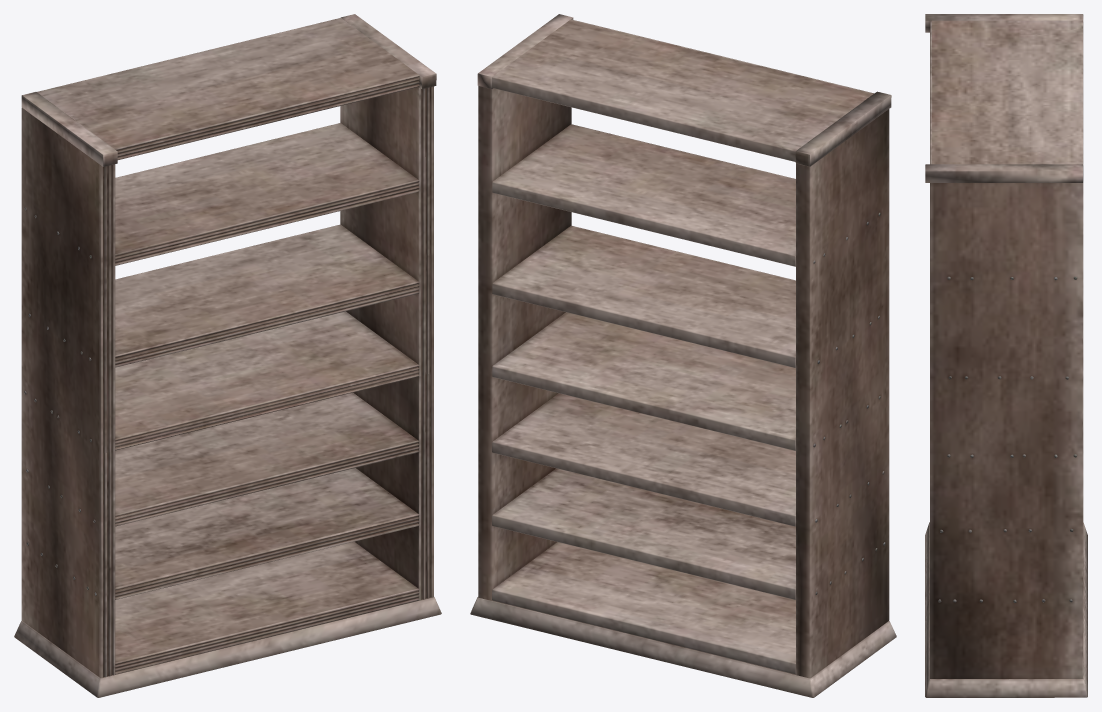
File: wooden_bookshelf_worn.glb
3 views of the same model, side by side, from view 1: azimuth 30°, elevation 25°; view 2: azimuth 150°, elevation 25°; view 3: azimuth 270°, elevation 25° (orthographic). The views are drawn at different scales.
Visible parts, largest first — view 1: wooden_bookshelf_worn; view 2: wooden_bookshelf_worn; view 3: wooden_bookshelf_worn.
Part boxes in pixels (box(x1,y1,x2,y2)): wooden_bookshelf_worn: box(14, 14, 441, 697); wooden_bookshelf_worn: box(470, 14, 896, 697); wooden_bookshelf_worn: box(925, 14, 1087, 697).
Size of the model in its own units: 1.37 by 2.06 by 0.5814.
Materials: 1 (1 with a texture image).
